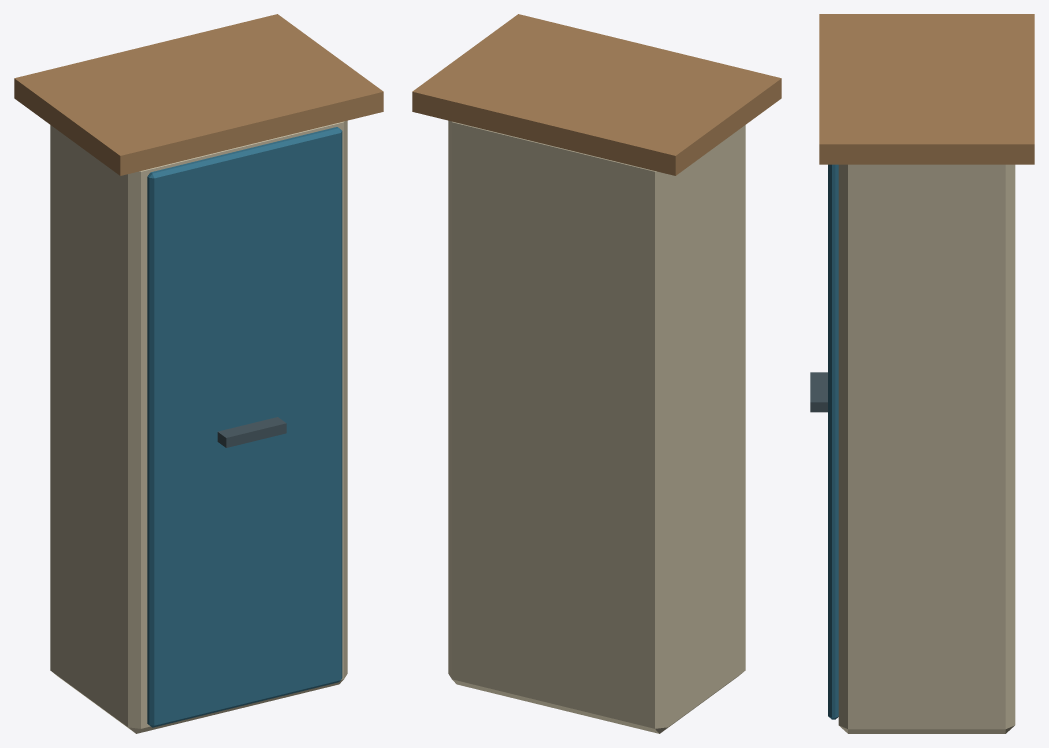
The model's file is kitchen_cupboard.glb.
The picture shows the model from 3 angles, left to right: view 1: azimuth 30°, elevation 25°; view 2: azimuth 150°, elevation 25°; view 3: azimuth 270°, elevation 25°; orthographic projection.
Visible parts, largest first — view 1: kitchen_cupboard; view 2: kitchen_cupboard; view 3: kitchen_cupboard.
Part boxes in pixels (x1,y1,x2,y2): kitchen_cupboard: [14, 14, 383, 733]; kitchen_cupboard: [412, 14, 781, 733]; kitchen_cupboard: [810, 14, 1034, 733].
Bounding box in the file's own units: 0.96 × 2.07 × 0.6975.
